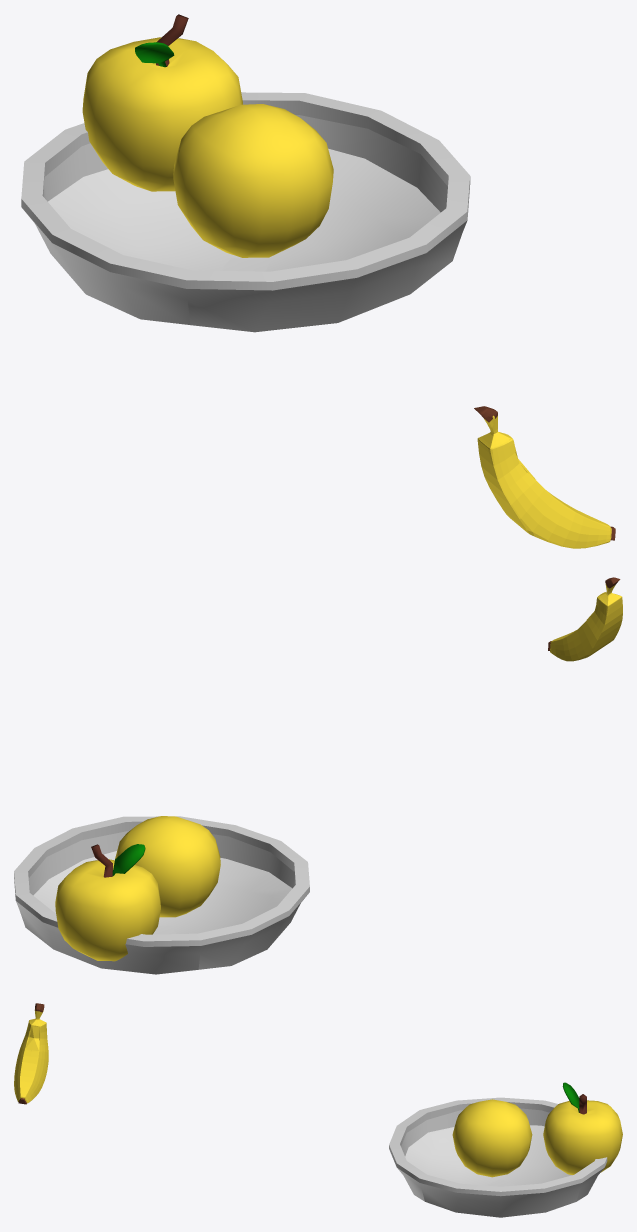
The model's file is Fruit.fbx.
3 renders of one model, top to bottom at view 1: azimuth 30°, elevation 25°; view 2: azimuth 150°, elevation 25°; view 3: azimuth 270°, elevation 25°, orthographic. The views are drawn at different scales.
Visible parts, largest first — view 1: Cube.002, Cube.001, Cube, Cube.010; view 2: Cube.002, Cube, Cube.001, Cube.010; view 3: Cube.002, Cube.001, Cube, Cube.010.
Part boxes in pixels (x1,y1,x2,y2): Cube.002: (21,92,470,332); Cube.001: (173,104,333,257); Cube: (82,14,242,191); Cube.010: (474,406,615,548); Cube.002: (14,816,309,974); Cube: (55,844,160,961); Cube.001: (115,816,220,917); Cube.010: (548,577,622,661); Cube.002: (389,1097,607,1217); Cube.001: (452,1099,532,1177); Cube: (543,1082,622,1175); Cube.010: (14,1003,48,1104).
Bounding box in the file's own units: 429 × 245 × 1068.
